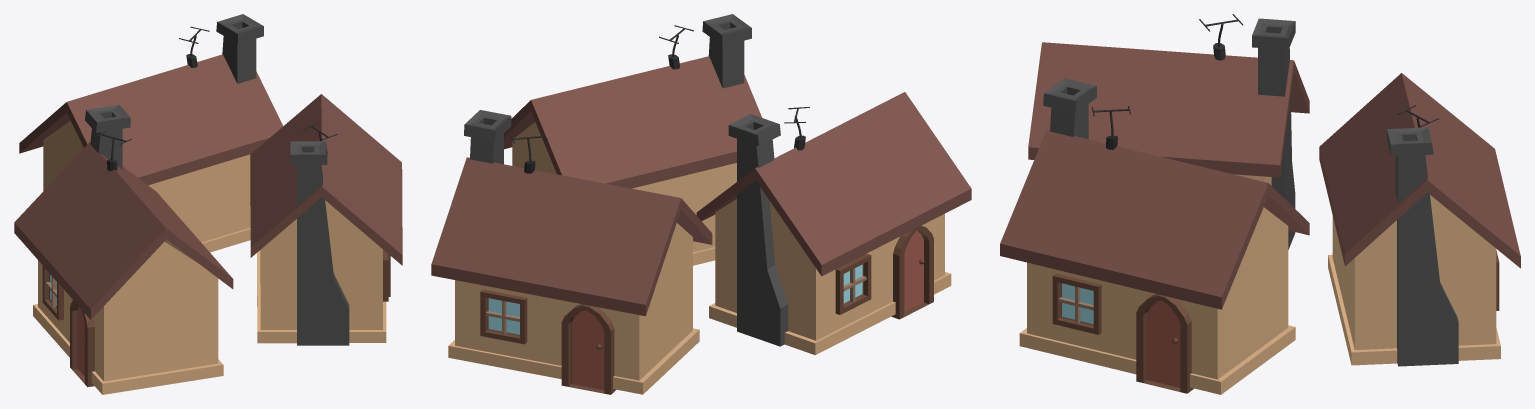
File: Casas.glb
The picture shows the model from 3 angles, left to right: view 1: azimuth 30°, elevation 25°; view 2: azimuth 150°, elevation 25°; view 3: azimuth 270°, elevation 25°; orthographic projection. The views are drawn at different scales.
Parts seen in each view (by area): view 1: Cube.002, Cube.008, Cube, Cube.013, Cube.011, Cube.010, Cube.016, Cube.006, Cube.004, Cube.003, Cube.001; view 2: Cube.008, Cube.002, Cube.013, Cube.010, Cube, Cube.004, Cube.007, Cube.011, Cube.003, Cube.016, Cube.006, Cube.009 (+1 smaller); view 3: Cube.013, Cube.002, Cube.011, Cube.008, Cube.010, Cube.006, Cube.015, Cube.004, Cube.016, Cube.012.
Part boxes in pixels (x1,y1,x2,y2): Cube.002: (14,142,233,319); Cube.008: (19,54,282,185); Cube: (33,239,223,394); Cube.013: (250,94,402,265); Cube.011: (257,200,386,343); Cube.010: (43,121,250,252); Cube.016: (290,141,349,345); Cube.006: (216,14,263,83); Cube.004: (85,104,130,169); Cube.003: (70,300,94,387); Cube.001: (42,265,63,320); Cube.008: (431,157,712,316); Cube.002: (696,92,971,276); Cube.013: (504,56,762,188); Cube.010: (448,223,699,394); Cube: (709,199,951,355); Cube.004: (728,114,788,346); Cube.007: (561,304,615,394); Cube.011: (512,122,736,265); Cube.003: (891,225,933,319); Cube.016: (702,14,751,88); Cube.006: (464,110,511,164); Cube.009: (480,289,527,344); Cube.013: (1000,129,1309,309); Cube.002: (1028,42,1309,177); Cube.011: (1019,207,1295,394); Cube.008: (1319,73,1520,268); Cube.010: (1328,195,1500,365); Cube.006: (1387,127,1458,366); Cube.015: (1136,294,1193,393); Cube.004: (1252,18,1295,249); Cube.016: (1043,78,1096,139); Cube.012: (1052,273,1101,334).
Size of the model in its own units: 7.21 by 3.59 by 7.32.
